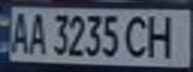2: (66, 11, 87, 57)
3: (84, 11, 106, 57), (48, 10, 69, 56)
5: (100, 11, 124, 58)
A: (6, 8, 33, 55), (24, 9, 48, 55)
C: (124, 11, 154, 58)
H: (142, 11, 184, 60)
